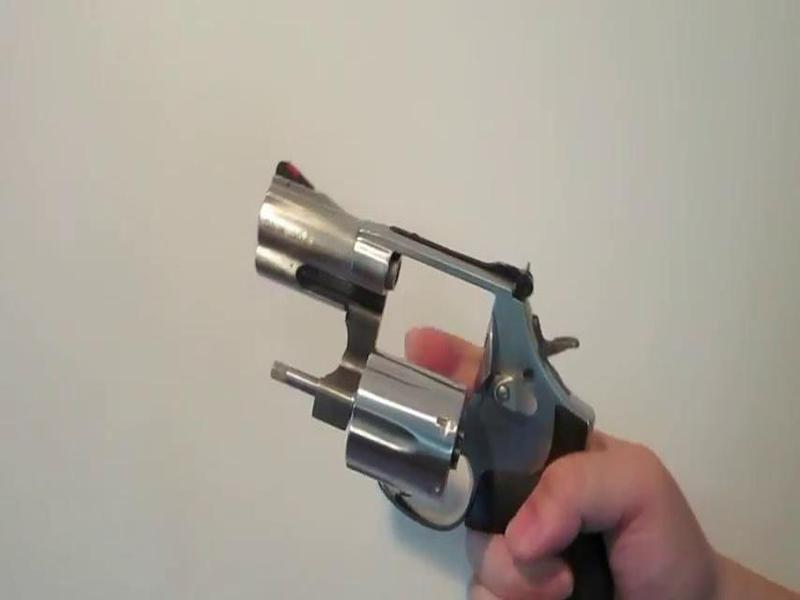Revolver: (238, 151, 662, 600)
